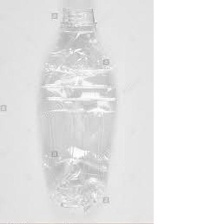bottle: (32, 3, 125, 218)
